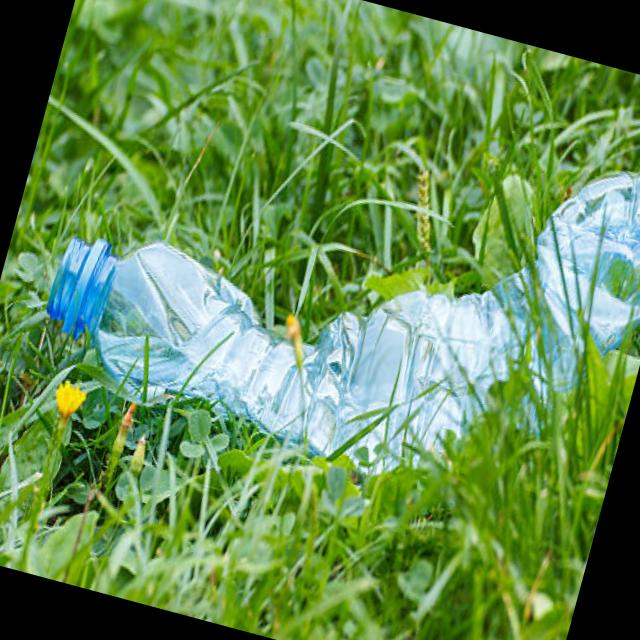plastic: (52, 239, 636, 463)
